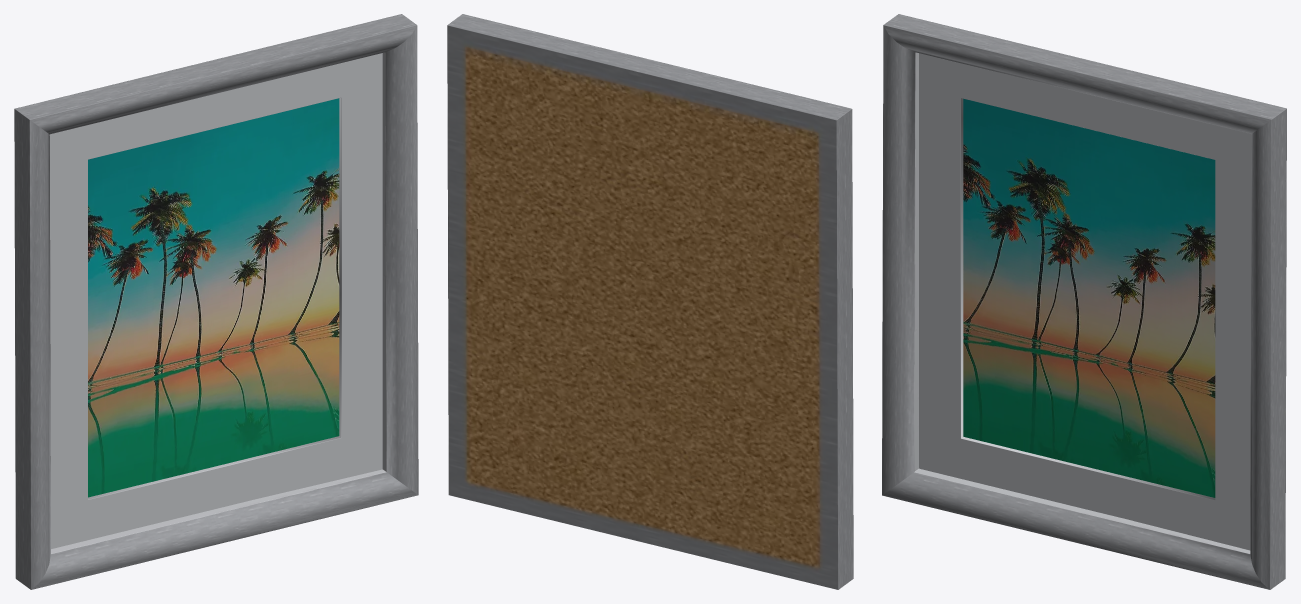
The model's file is abo-B073NZPP5H.glb.
3 views of the same model, side by side, from view 1: azimuth 30°, elevation 25°; view 2: azimuth 150°, elevation 25°; view 3: azimuth 330°, elevation 25° (orthographic).
Size of the model in its own units: 0.327 by 0.378 by 0.027.
1 material, 1 textured.
